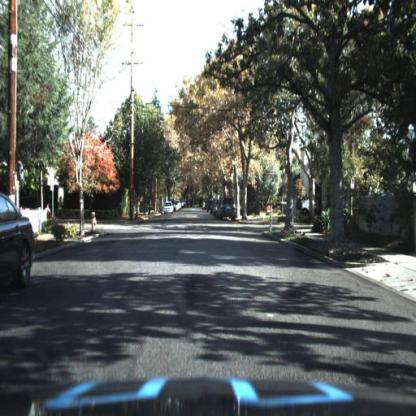car: (1, 186, 38, 298), (217, 198, 239, 223), (163, 198, 175, 216)
